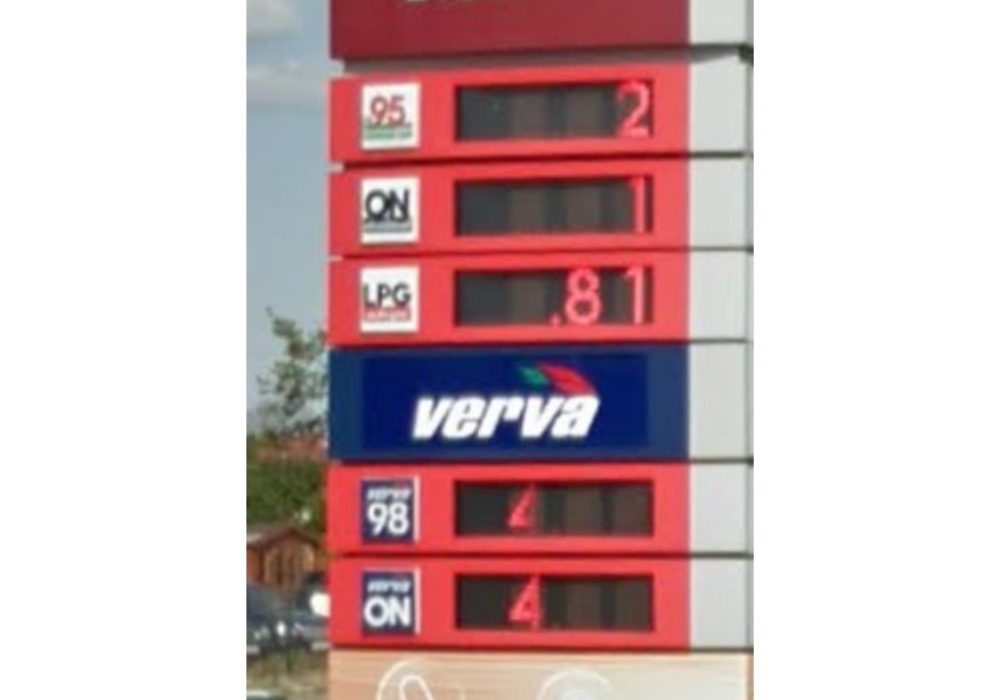LPG: (356, 265, 419, 335)
ON: (359, 565, 416, 638), (359, 176, 419, 244)
PB95: (360, 82, 421, 152)
PB98: (357, 477, 418, 541)
